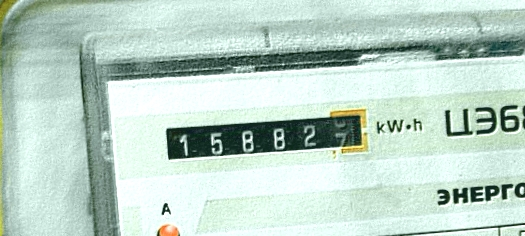1: (177, 132, 191, 158)
2: (301, 123, 319, 149)
5: (208, 130, 224, 157)
7: (333, 130, 349, 148)
8: (239, 128, 257, 154), (271, 126, 288, 152)
screen: (155, 103, 378, 175)
